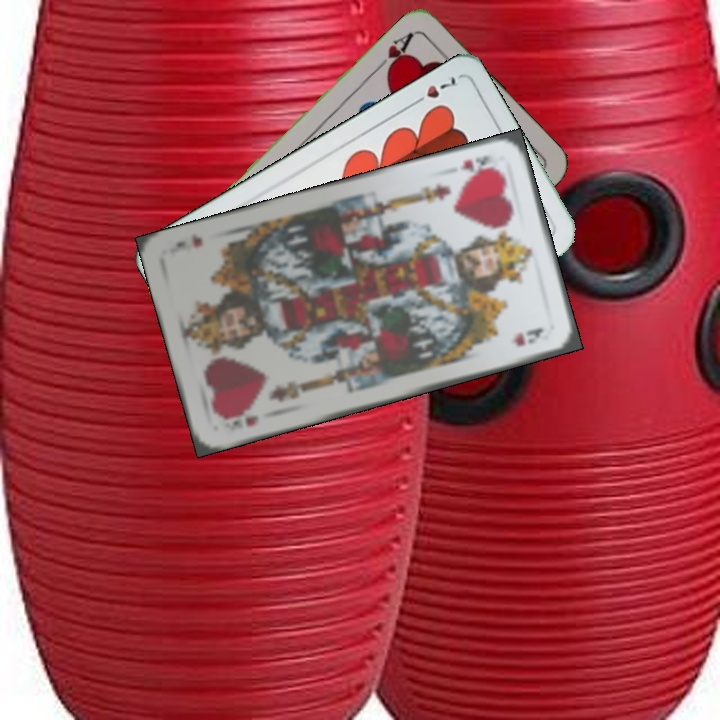H7: (407, 72, 462, 109)
HA: (370, 27, 418, 77)
HK: (456, 151, 498, 179), (218, 411, 261, 430)
